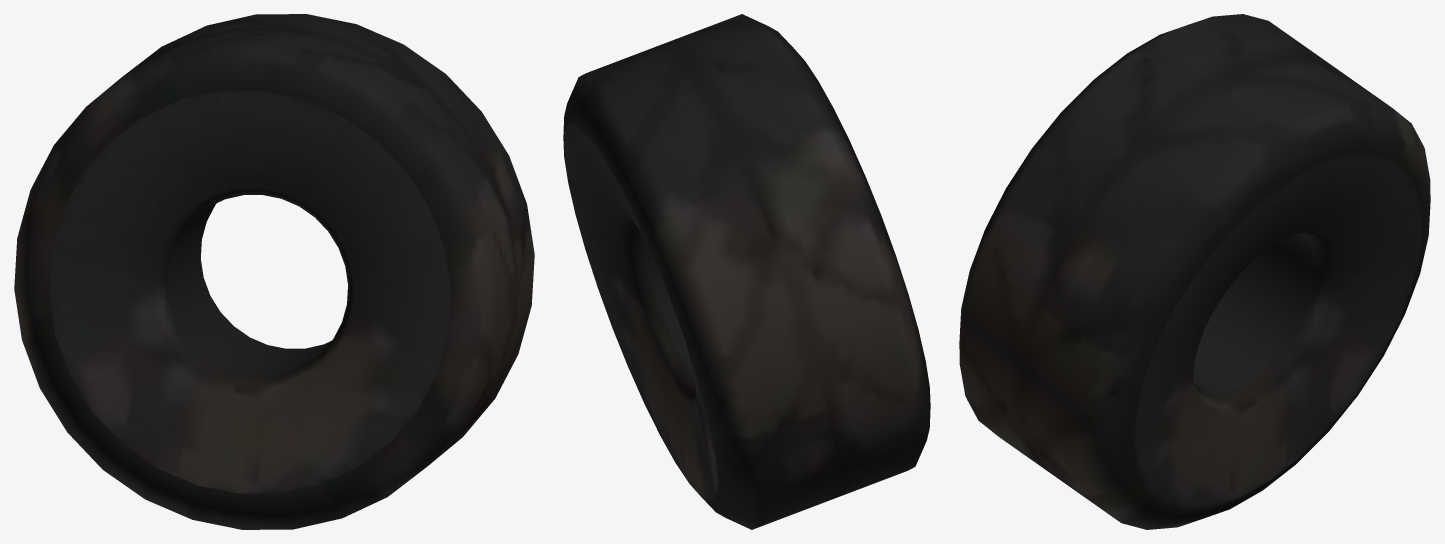
Rendered from old-tire.glb.
3 renders of one model, left to right at view 1: azimuth 30°, elevation 25°; view 2: azimuth 150°, elevation 25°; view 3: azimuth 270°, elevation 25°, orthographic.
Bounding box in the file's own units: 5.76 × 6.19 × 5.57.
1 material, 1 textured.
